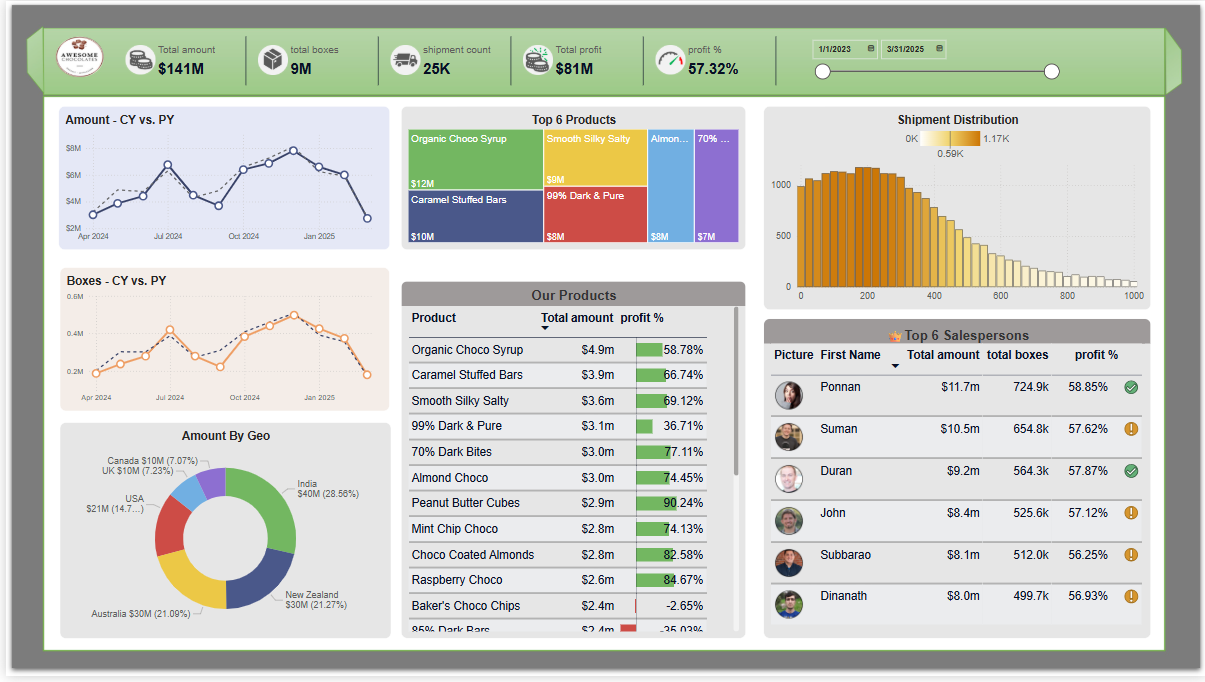

Layout of this report page (visuals, bound fields, positions):
{"tool":"powerbi","page":{"name":"Bi report 2","canvas":[1920,1080],"ordinal":7},"visuals":[{"type":"lineChart","title":"Amount - CY vs. PY","fields":{"Y":["shipments.Total amount","shipments.total amount (last year)"],"Category":["calendar.Start of Month"]},"box":[84,168,530,230],"z":0},{"type":"lineChart","title":"Boxes - CY vs. PY","fields":{"Category":["calendar.Start of Month"],"Y":["shipments.total boxes","shipments.Total Boxes (last year)"]},"box":[86,426,528,230],"z":1000},{"type":"donutChart","title":"Amount By Geo","fields":{"Category":["locations.Geo"],"Y":["shipments.Total amount"]},"box":[86,674,530,346],"z":2000},{"type":"columnChart","title":"Shipment Distribution","fields":{"Y":["shipments.shipment count"],"Category":["shipments.Boxes (bins)"]},"box":[1212,168,620,326],"z":3000},{"type":"tableEx","title":"👑Top 6 Salespersons","fields":{"Values":["people.Picture","people.First Name","shipments.Total amount","shipments.total boxes","shipments.profit %"]},"box":[1212,508,620,512],"z":4000},{"type":"treemap","title":"Top 6 Products","fields":{"Values":["shipments.Total amount"],"Group":["products.Product"]},"box":[632,168,552,230],"z":5000},{"type":"tableEx","title":"Our Products","fields":{"Values":["products.Product","shipments.Total amount","shipments.profit %"]},"box":[632,448,552,572],"z":6000},{"type":"cardVisual","fields":{"Data":["shipments.Total amount","shipments.total boxes","shipments.shipment count","shipments.Total profit","shipments.profit %"]},"box":[176,52,1062,88],"z":7000},{"type":"slicer","fields":{"Values":["calendar.cal_date"]},"box":[1278,52,416,88],"z":8000}]}

Visuals, with their boxes in screenshot pixels (x1, y1, x2, y2), scaled from the page's 1920x1080 canvas onto the 1205x682 screenshot:
"Amount - CY vs. PY" lineChart: bbox=(53, 106, 385, 251)
"Boxes - CY vs. PY" lineChart: bbox=(54, 269, 385, 414)
"Amount By Geo" donutChart: bbox=(54, 426, 387, 644)
"Shipment Distribution" columnChart: bbox=(761, 106, 1150, 312)
"👑Top 6 Salespersons" tableEx: bbox=(761, 321, 1150, 644)
"Top 6 Products" treemap: bbox=(397, 106, 743, 251)
"Our Products" tableEx: bbox=(397, 283, 743, 644)
cardVisual - shipments.Total amount x shipments.total boxes: bbox=(110, 33, 777, 88)
slicer - calendar.cal_date: bbox=(802, 33, 1063, 88)
